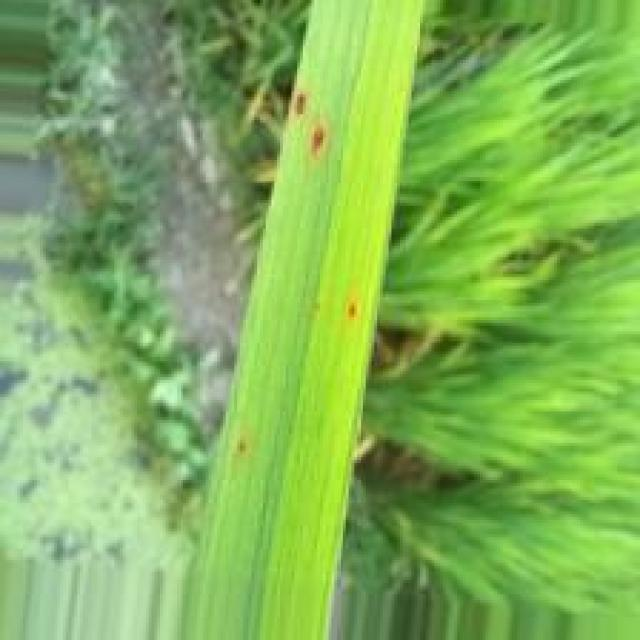Brown_Spot: (285, 92, 306, 126), (308, 125, 322, 147), (341, 305, 364, 315)
